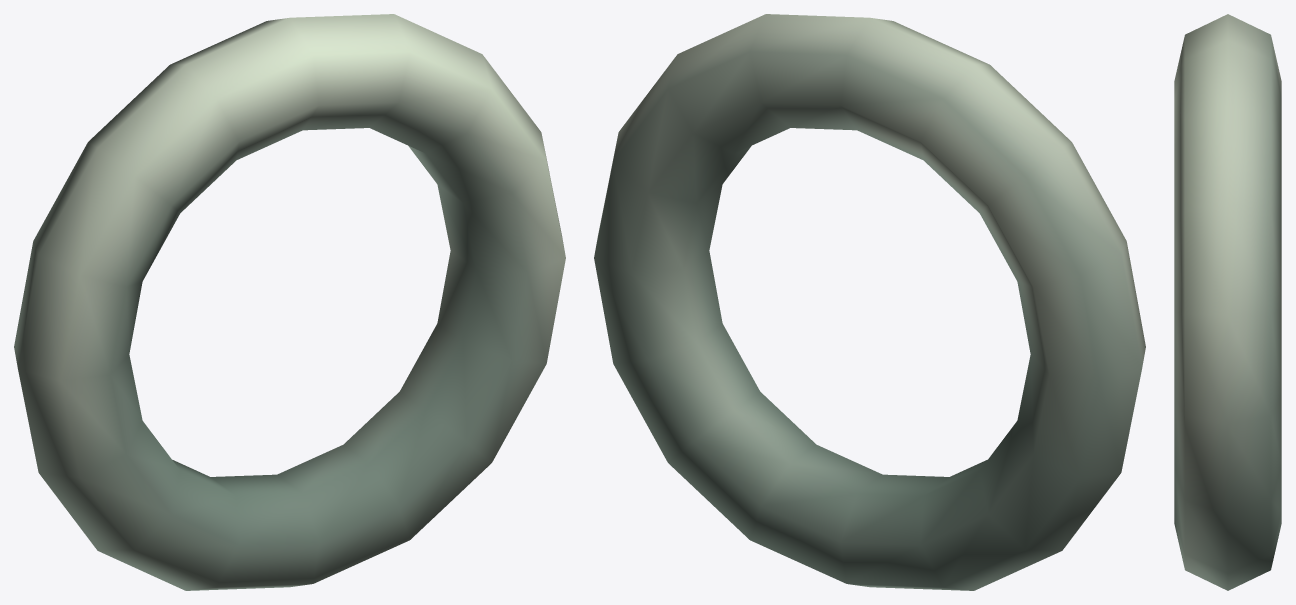
Rendered from SM_ring_001_silver.fbx.
3 renders of one model, left to right at view 1: azimuth 30°, elevation 25°; view 2: azimuth 150°, elevation 25°; view 3: azimuth 270°, elevation 25°, orthographic. The views are drawn at different scales.
Visible parts, largest first — view 1: SM_ring_001_silver; view 2: SM_ring_001_silver; view 3: SM_ring_001_silver.
Part boxes in pixels (box(x1,y1,x2,y2)): SM_ring_001_silver: box(14, 14, 565, 590); SM_ring_001_silver: box(594, 14, 1145, 590); SM_ring_001_silver: box(1174, 14, 1281, 590).
Bounding box in the file's own units: 42 × 42 × 7.8.
